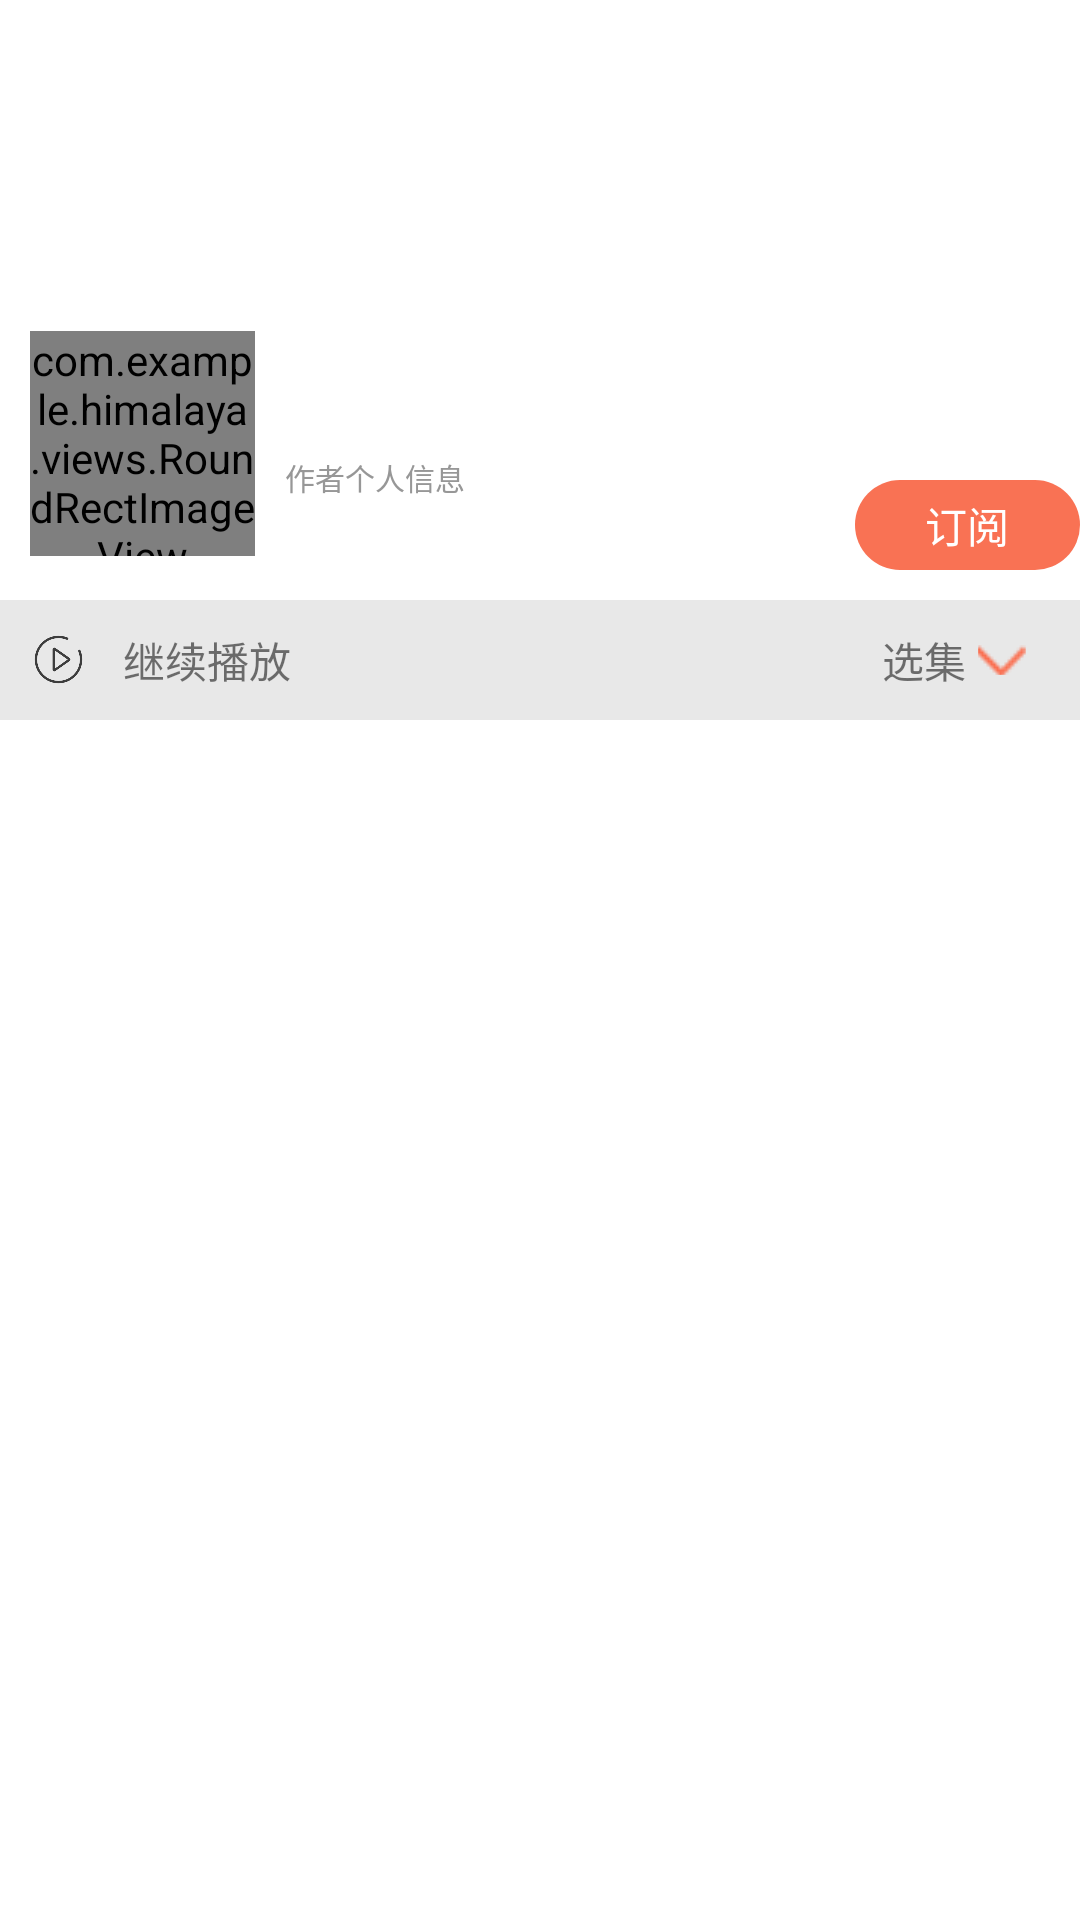

Icons on this 1080w x 1920h Android screen, each with its box as (x1, y1, x2, y2):
arrow down: (978, 645, 1026, 675)
play: (35, 636, 82, 683)
